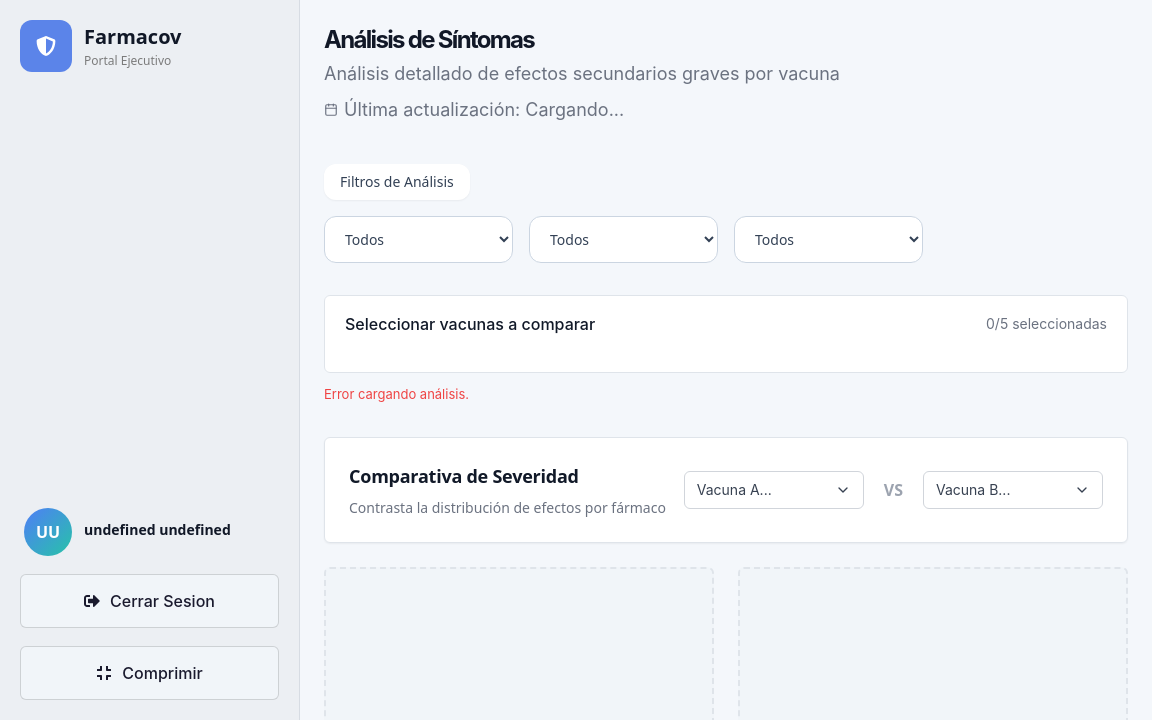
Test: Flujo 4 — Análisis de síntomas con filtros y diagrama de araña › aplica el filtro de grupo de edad "18-29"
The image size is (1152, 720).
expect the text "Cargando vacunas..." is not shown: met
Step 1. Select "18-29" in the 2nd dropdown → {"x": 624, "y": 240}, box [529,216,718,263]
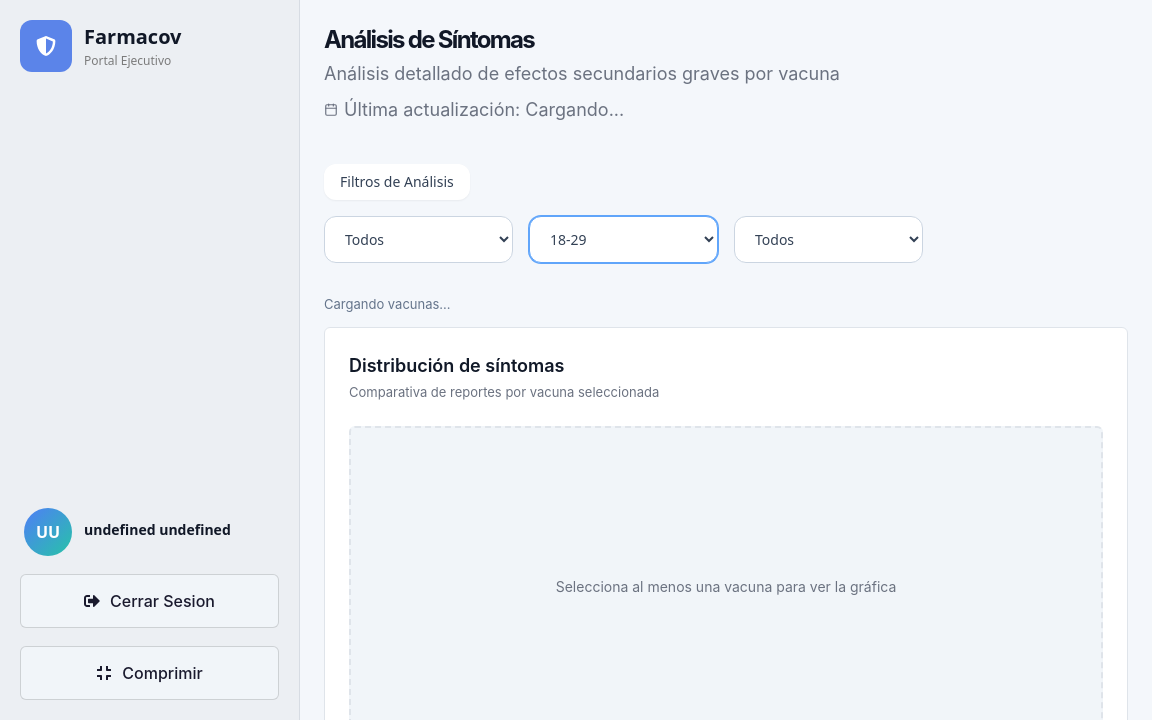
expect the text "Error cargando análisis." is gone: met
